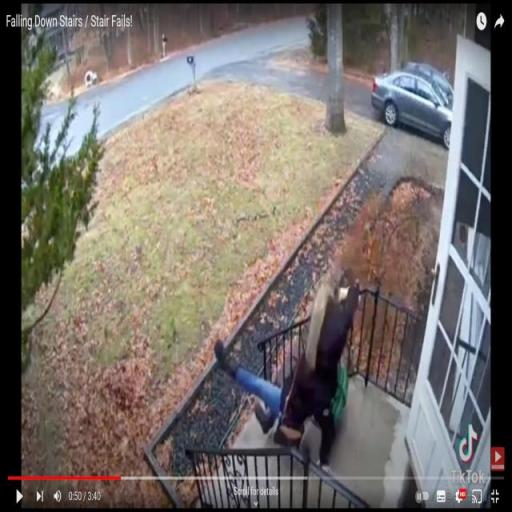Fall: (214, 279, 361, 470)
